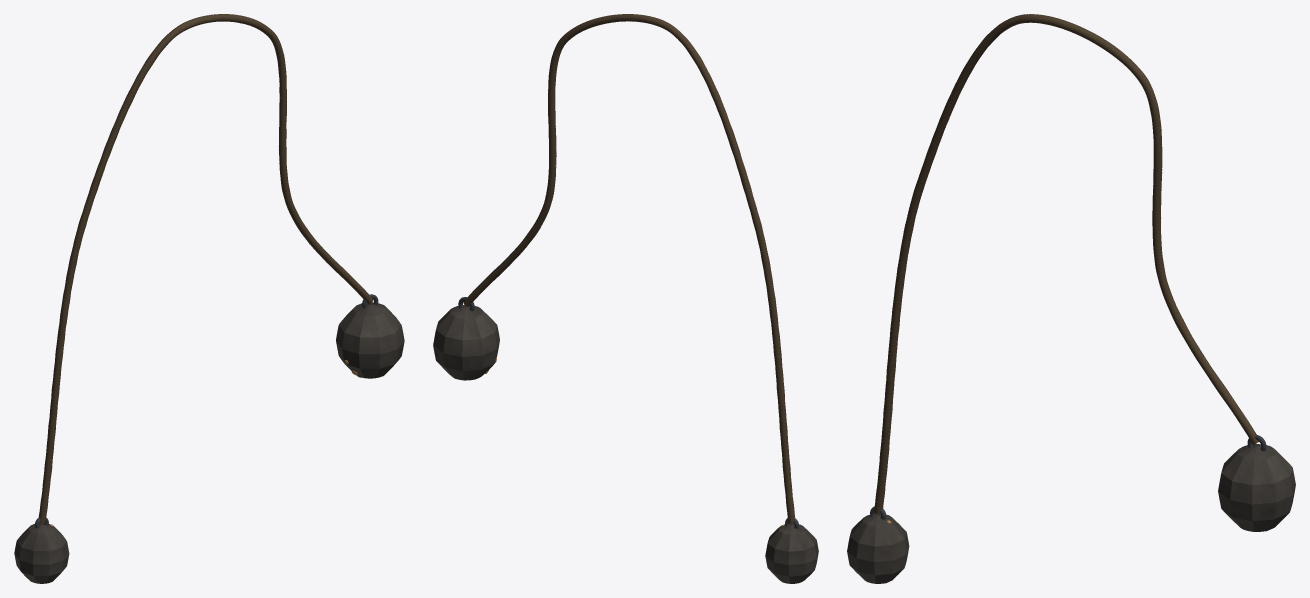
File: meteor-hammer.glb
3 renders of one model, left to right at view 1: azimuth 30°, elevation 25°; view 2: azimuth 150°, elevation 25°; view 3: azimuth 330°, elevation 25°, orthographic. The views are drawn at different scales.
Parts seen in each view (by area): view 1: cloth / canvas webbing, iron / hammer-scaled wrought iron; view 2: cloth / canvas webbing, iron / hammer-scaled wrought iron; view 3: cloth / canvas webbing, iron / hammer-scaled wrought iron.
Part boxes in pixels (x1,y1,x2,y2): cloth / canvas webbing: [38, 14, 373, 523]; iron / hammer-scaled wrought iron: [14, 302, 404, 583]; cloth / canvas webbing: [463, 14, 795, 523]; iron / hammer-scaled wrought iron: [433, 305, 818, 583]; cloth / canvas webbing: [874, 14, 1258, 514]; iron / hammer-scaled wrought iron: [847, 444, 1295, 583].
Size of the model in its own units: 0.7674 by 1.02 by 0.1167.
5 materials, 3 textured.
